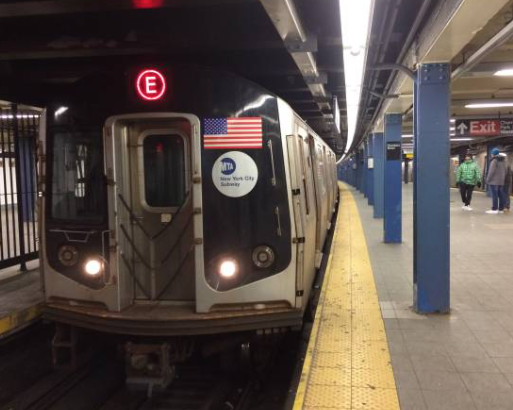train: (40, 63, 297, 322)
